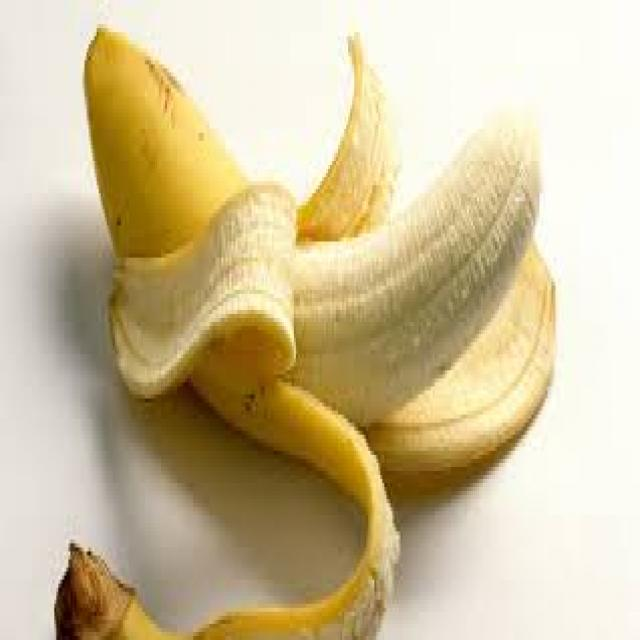organic waste: (52, 16, 554, 636)
